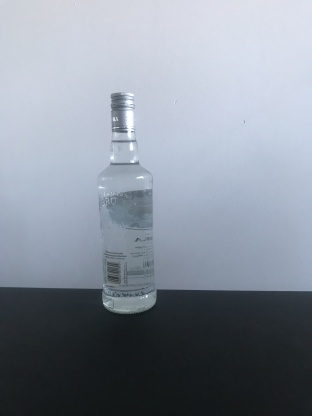nakretka: (109, 91, 138, 133)
